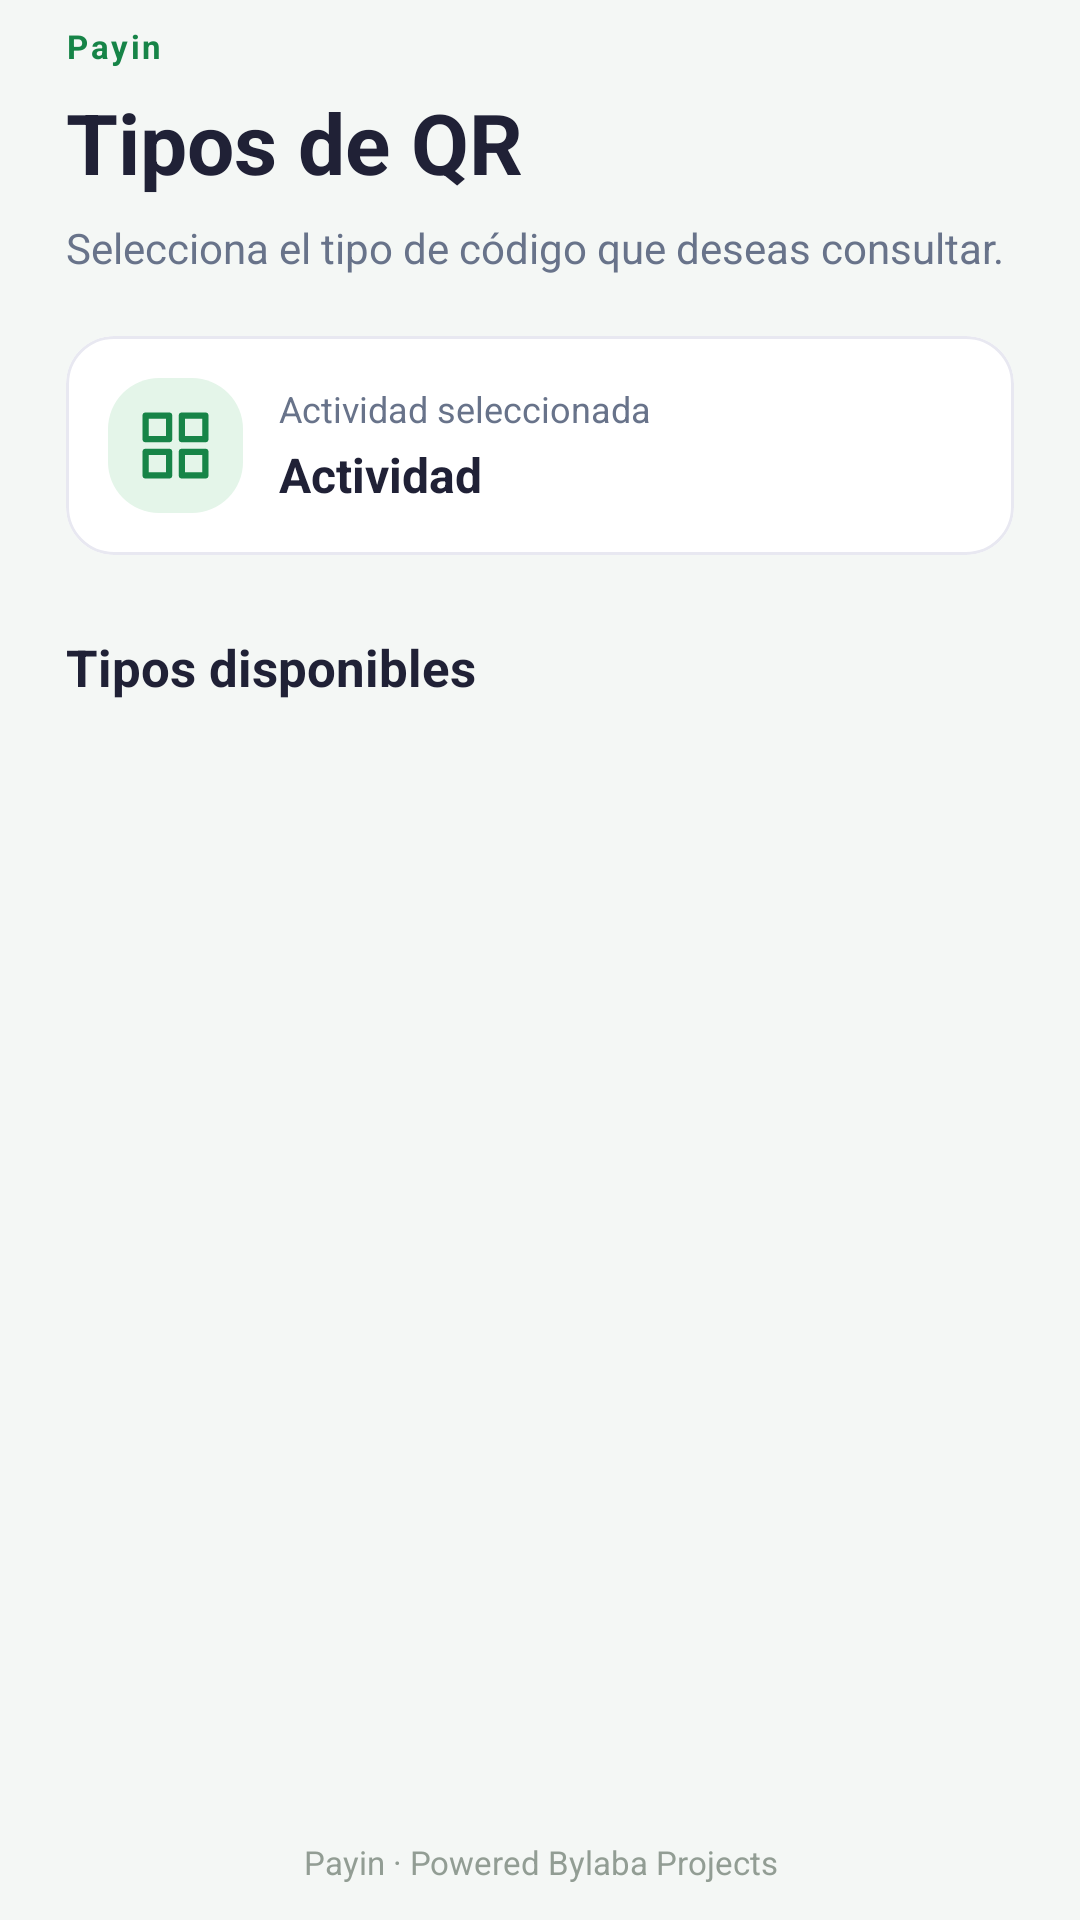

Point at icon controls on the screen. Image size 1080px x 1920px, points as (x=x, y=y).
hero squares: (x=175, y=445)
